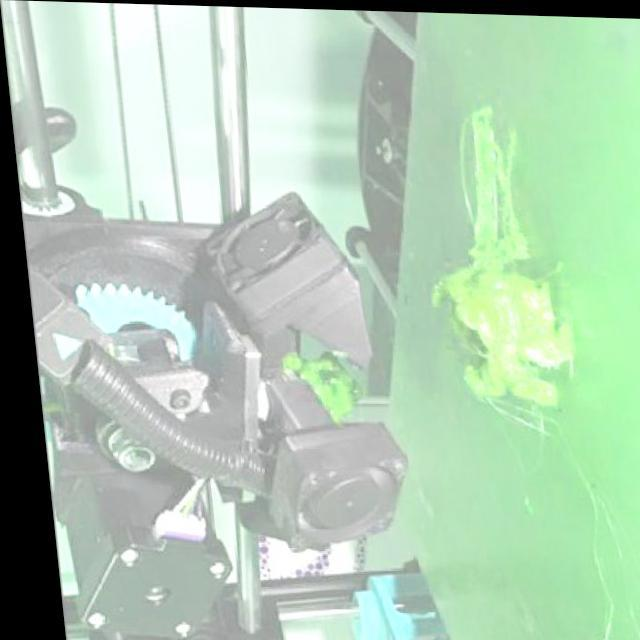spaghetti: (446, 100, 527, 267)
